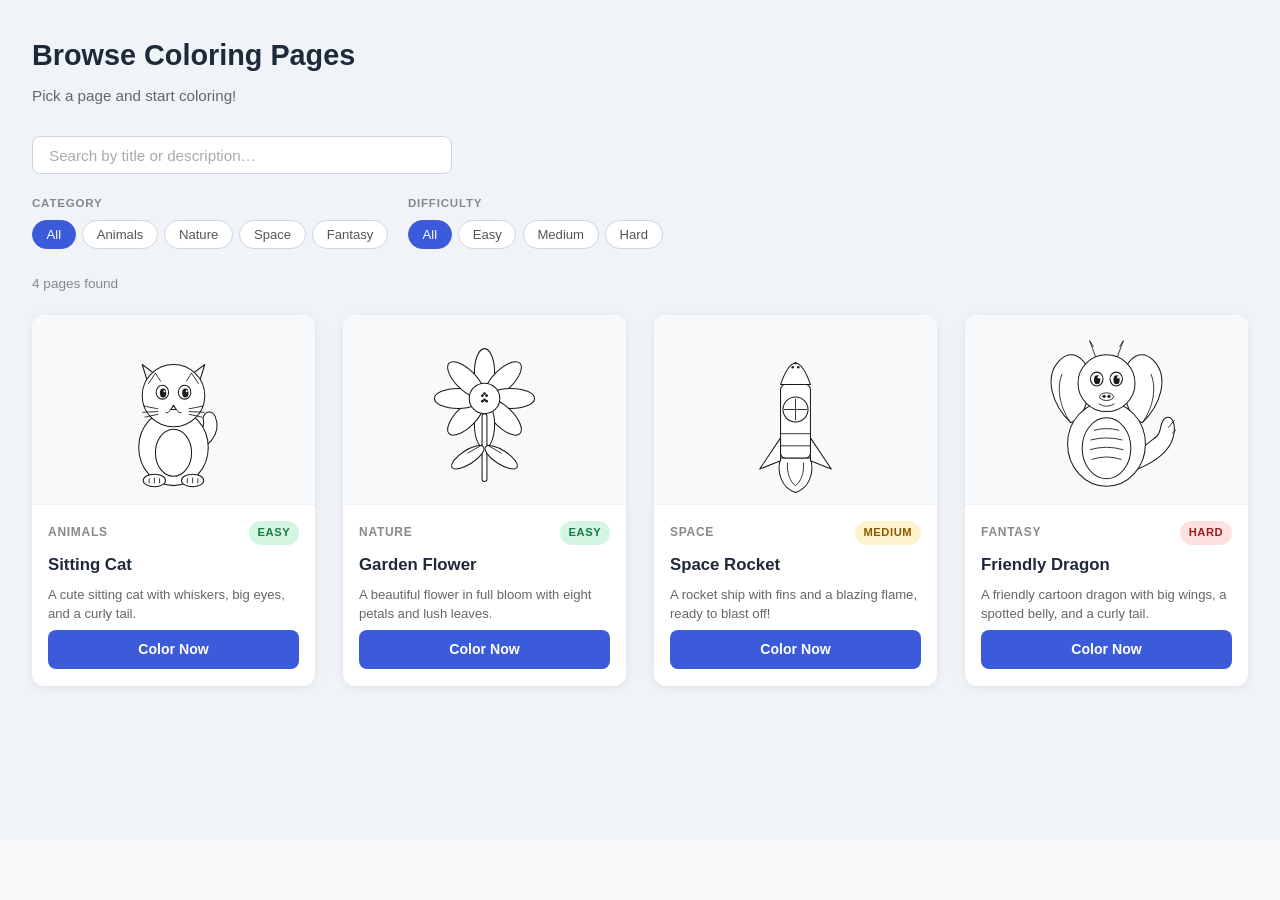
Test: Browse Page Filter & Search Tests › displays empty state when no pages match, and resets via "Clear all filters"
The image size is (1280, 900).
In the search field named "search coloring pages": (242, 155) [32,136,452,174], type "nonexistentquery12345"
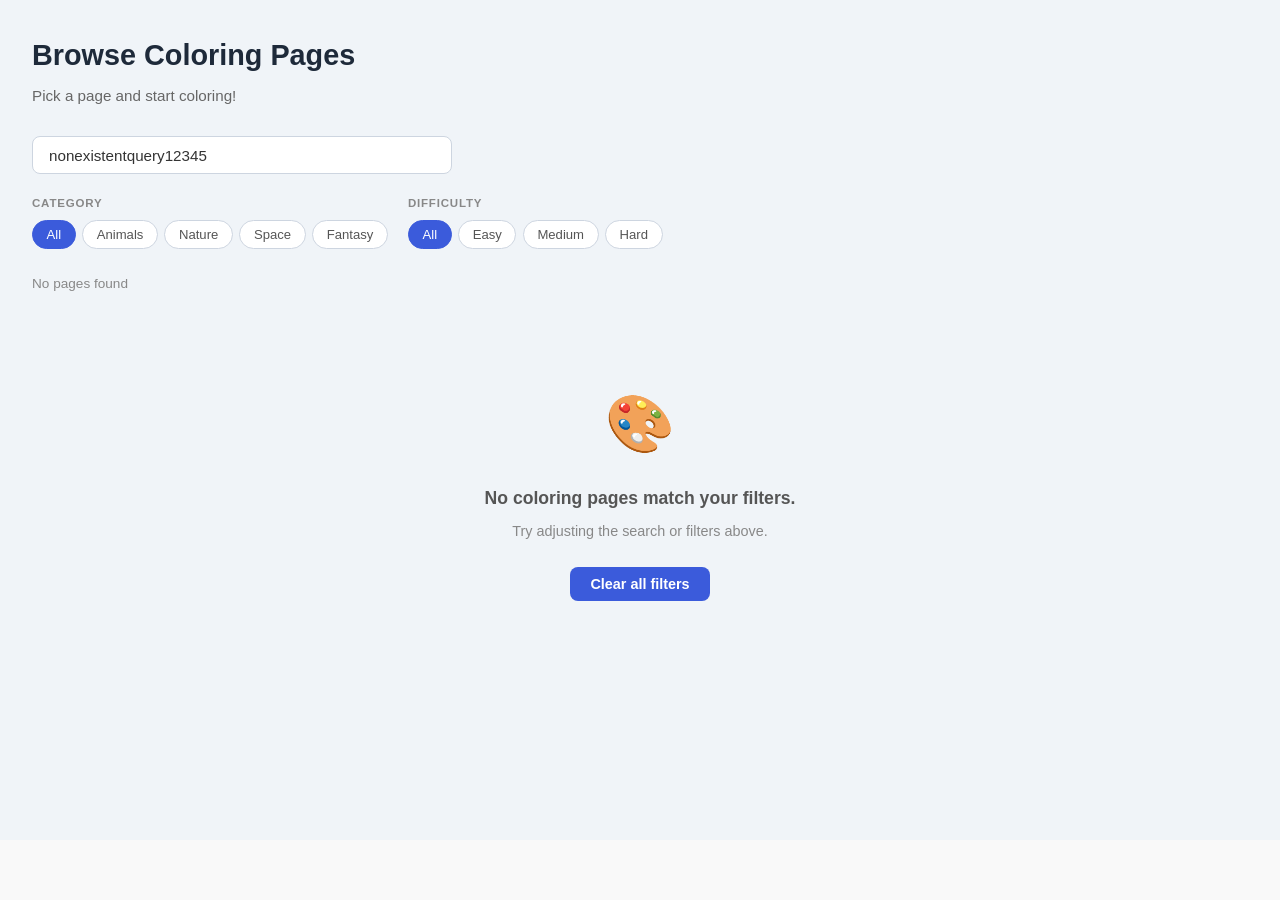
Now the text "No coloring pages match your filters." is shown, box [484,488,795,508]
Now the heading "Sitting Cat" is gone
Click "Clear all filters" button
Click the button "Clear all filters": (640, 584) [570,568,710,601]
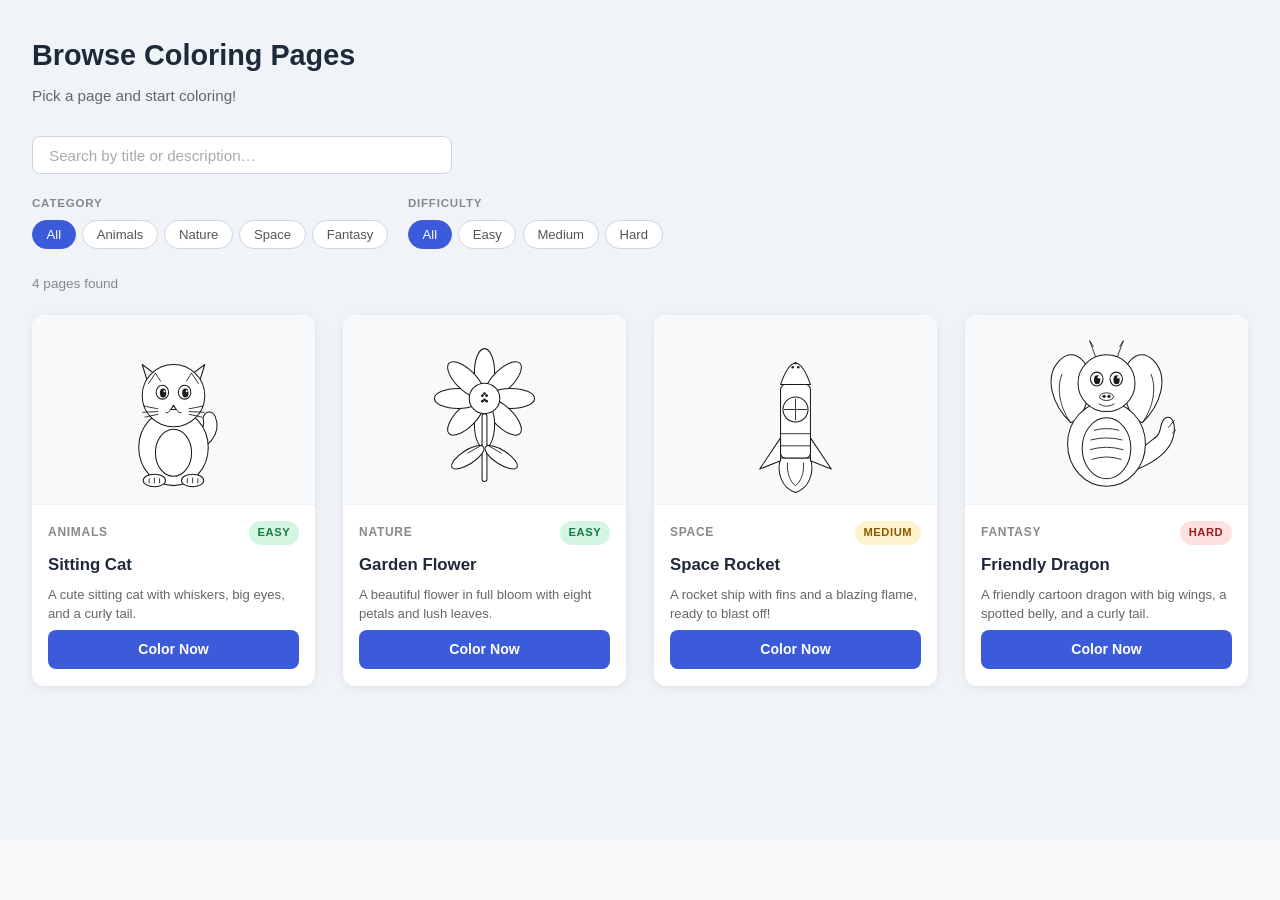
Now the heading "Sitting Cat" is shown, box [48,555,132,574]
Now the heading "Garden Flower" is shown, box [359,555,476,574]
Now the heading "Space Rocket" is shown, box [670,555,780,574]
